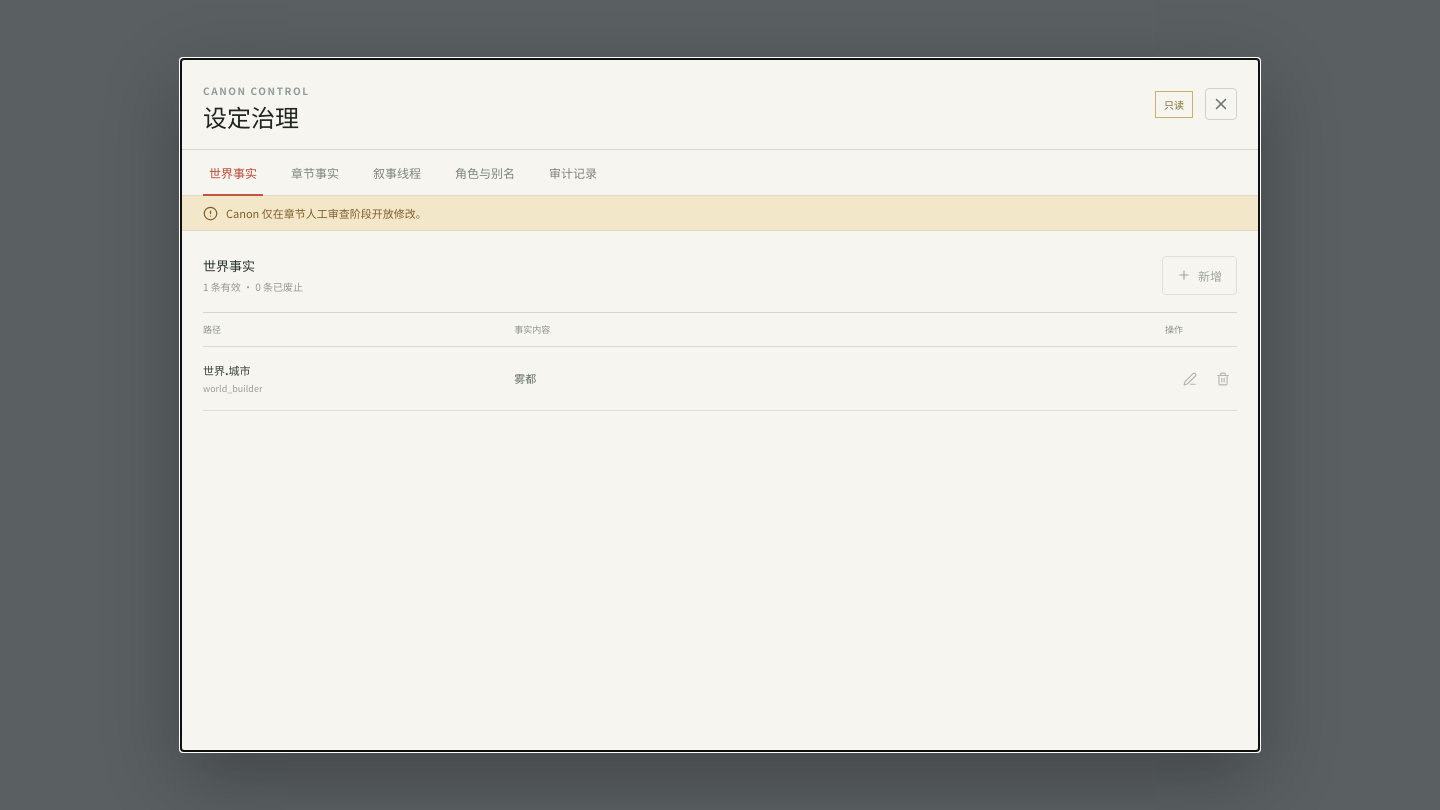
Test: CanonDialog › renders structured psychology fields as readable text in the character list
The width and height of the screenshot is (1440, 810).
Expected: the text "世界.城市" is shown, [203, 362, 251, 378]
Click the tab "角色与别名".
click(485, 173)  # box [449, 150, 521, 195]
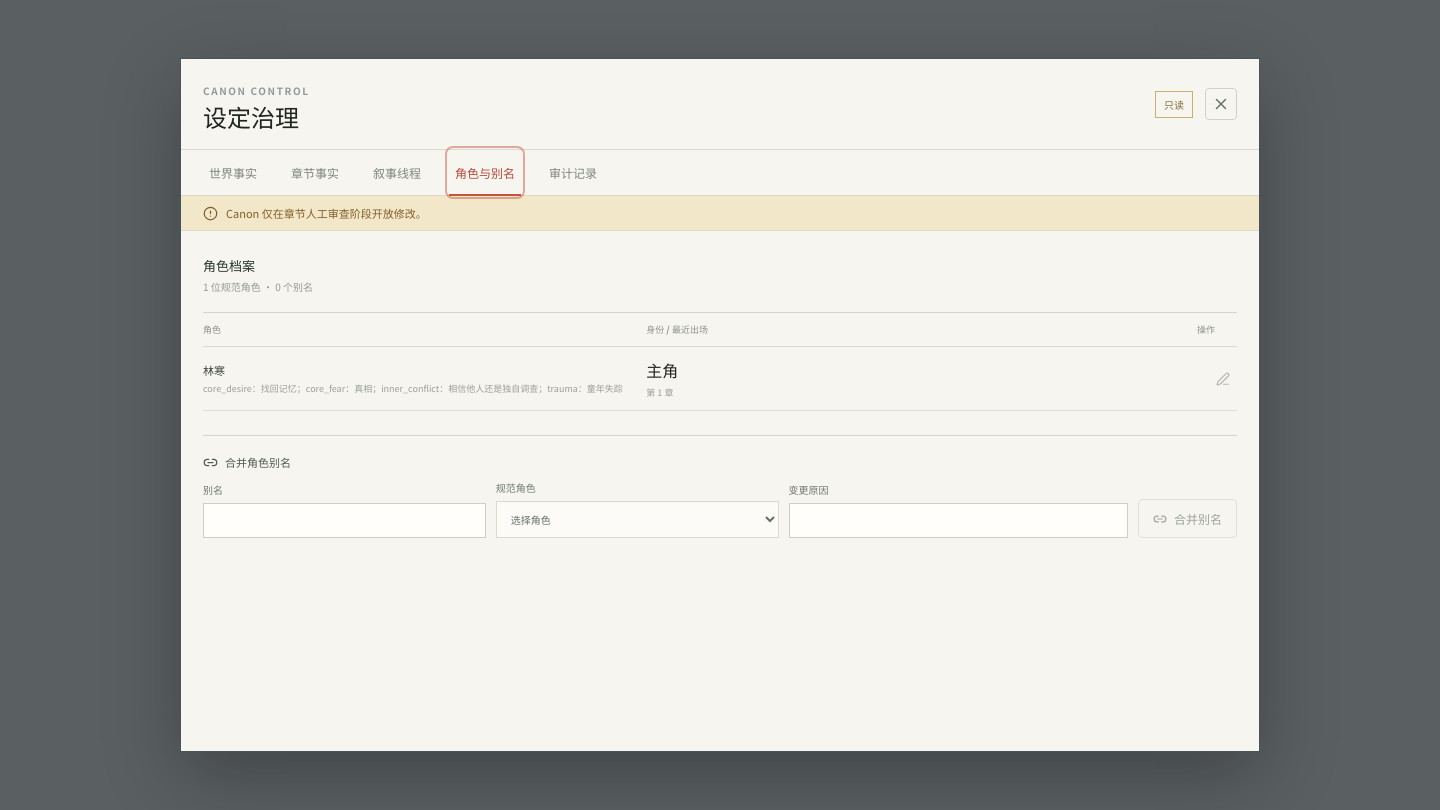
Result: the text "trauma：童年失踪" is shown at [203, 382, 623, 395]
